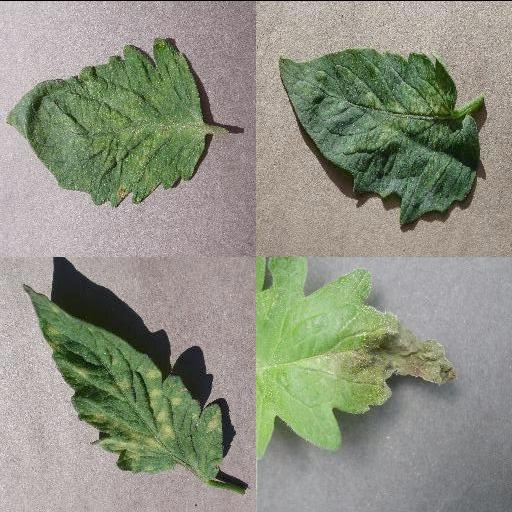Late Blight: (256, 256, 458, 464)
Leaf Mold: (22, 285, 224, 475)
Spider Mites: (278, 47, 480, 225), (5, 36, 205, 206)
